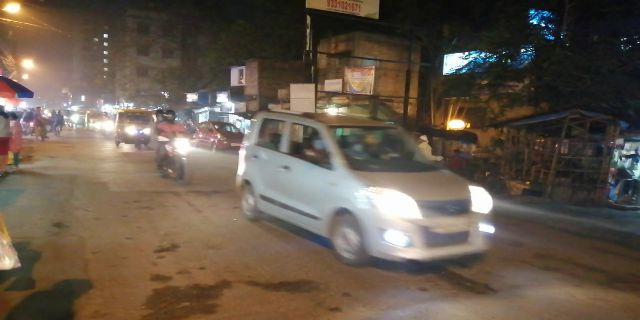Car: (249, 110, 500, 267)
Motorbike: (146, 107, 198, 180)
